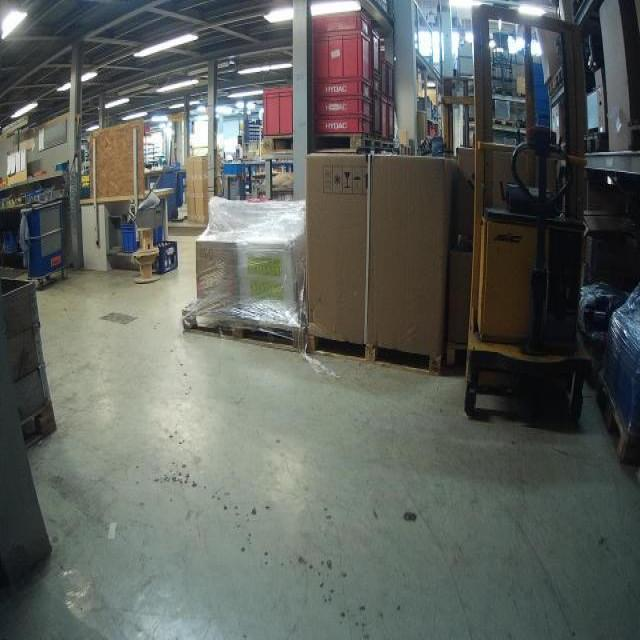pallet: (305, 331, 444, 381), (181, 305, 306, 352), (597, 369, 639, 468), (262, 133, 381, 154), (21, 404, 58, 460), (582, 131, 605, 154), (492, 118, 517, 129), (493, 87, 514, 98), (382, 139, 394, 151)
pallet_truck: (474, 3, 592, 425)
